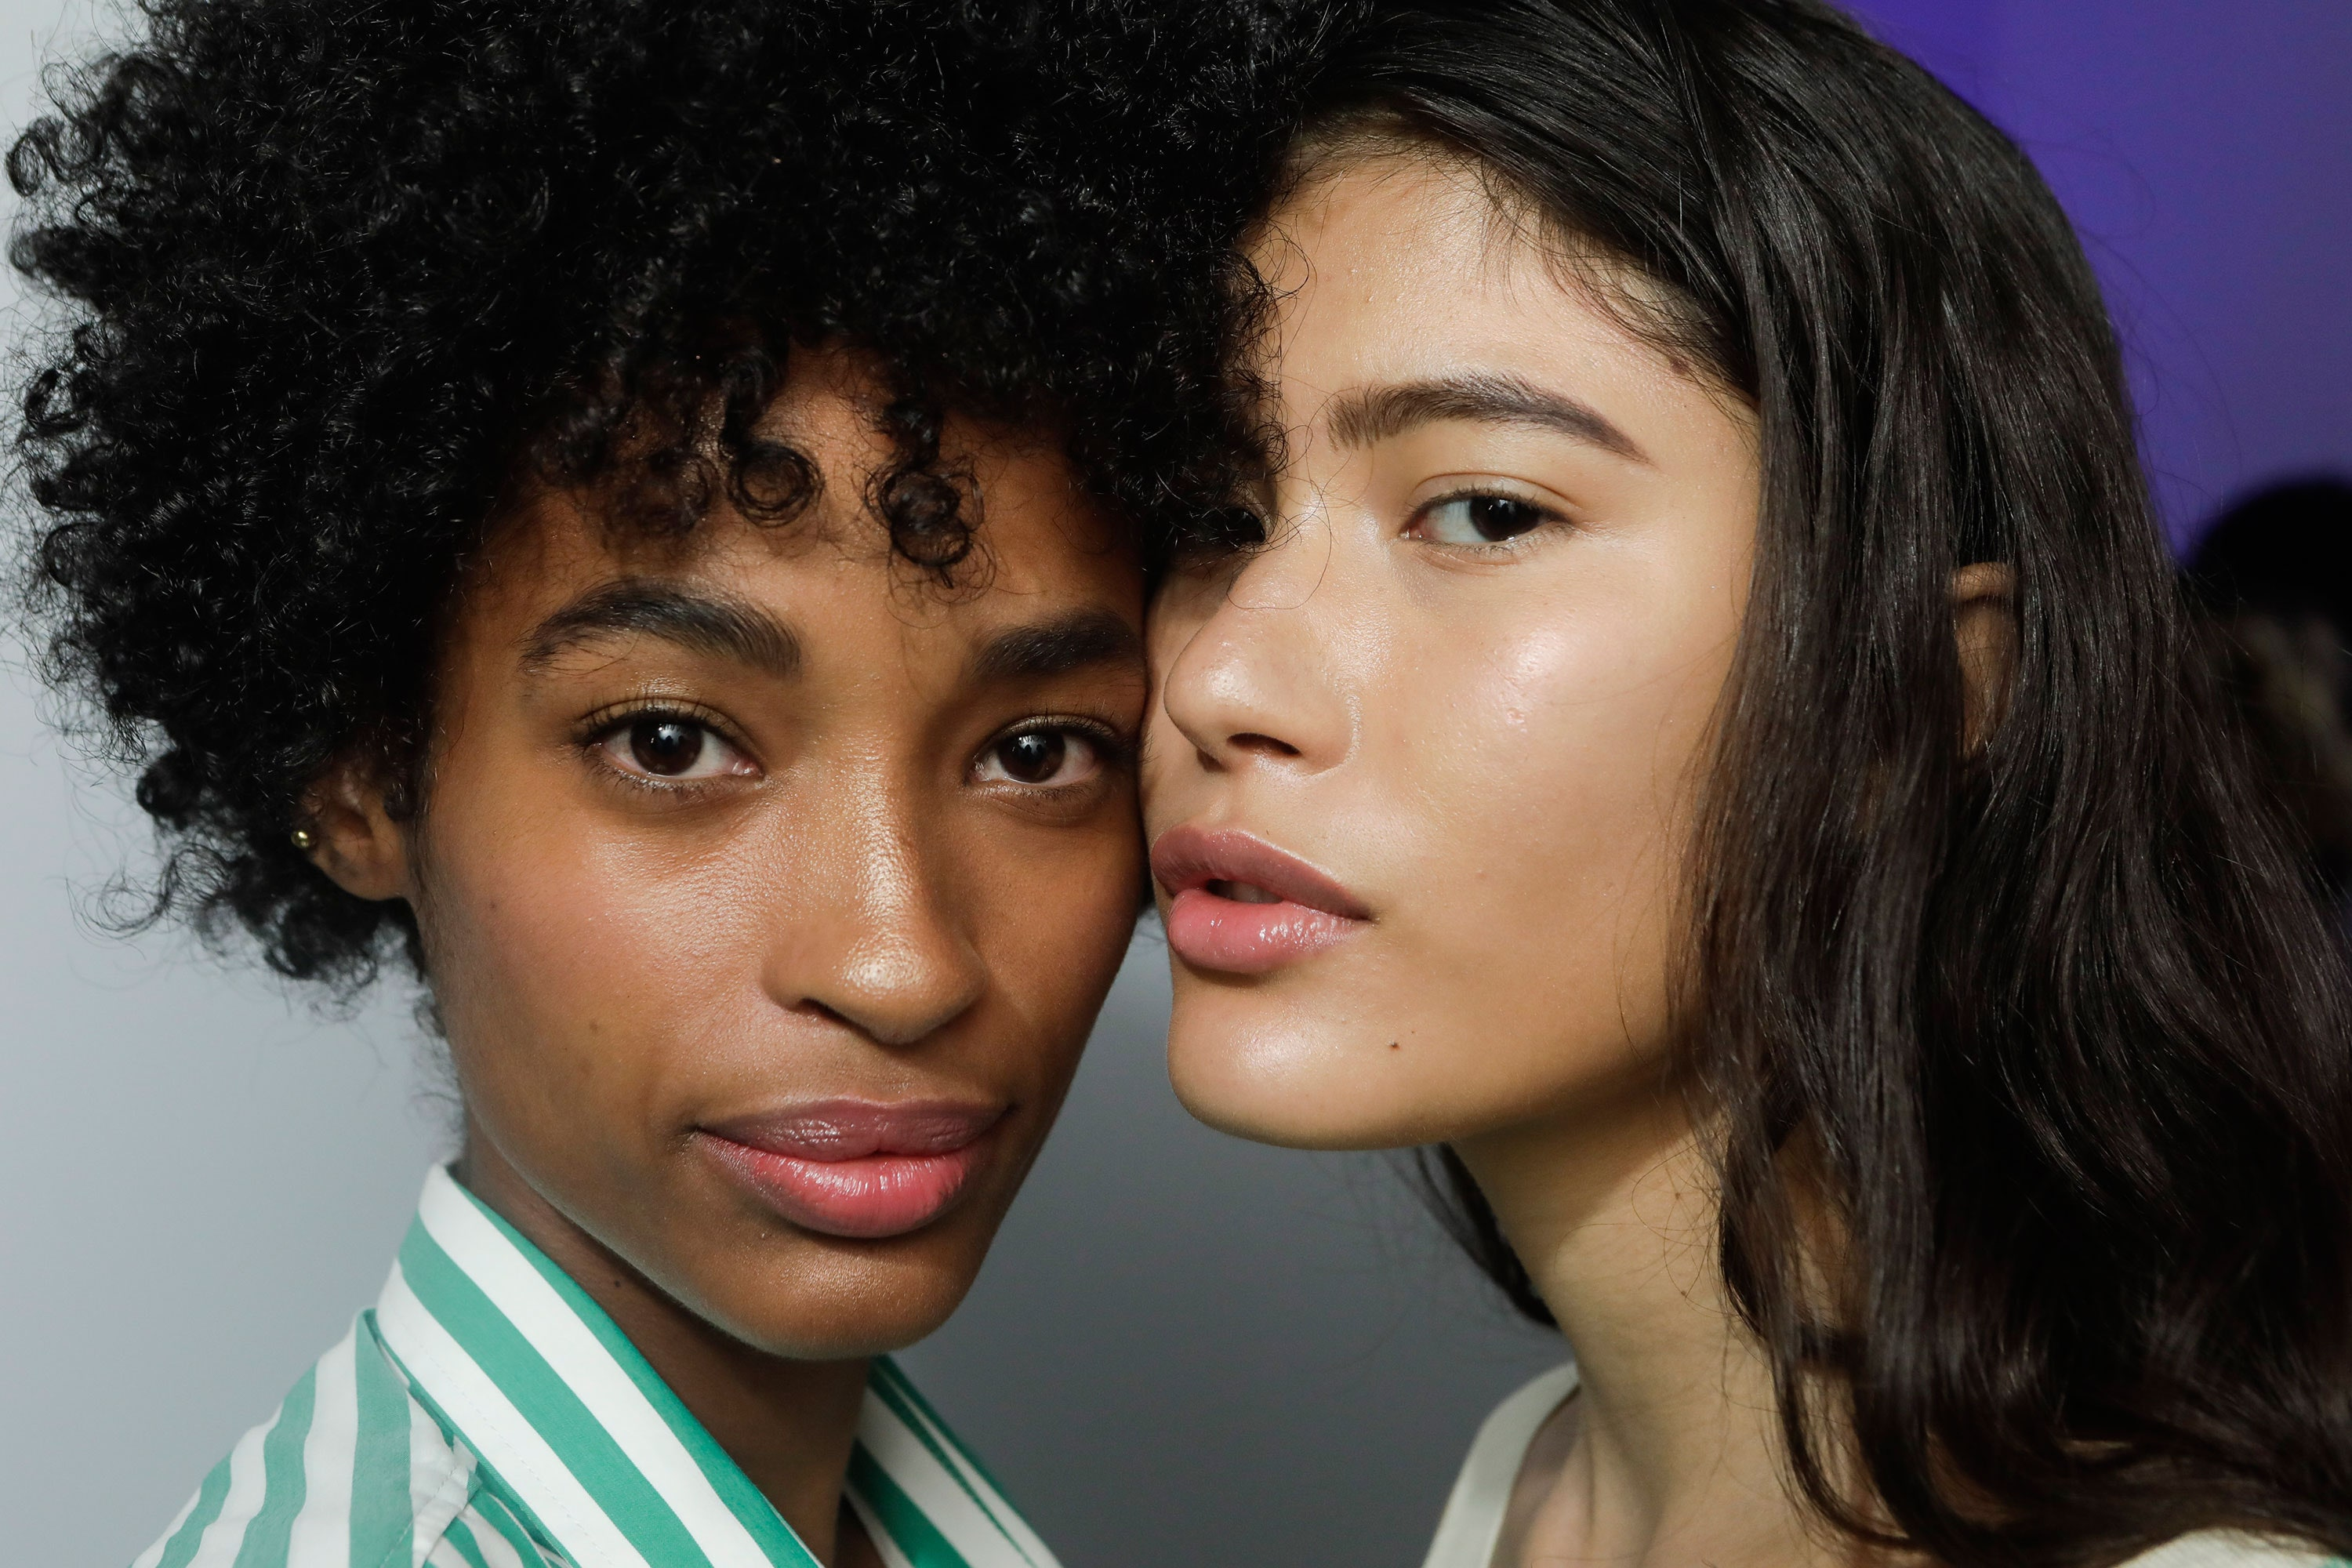bare: (439, 802, 1098, 1348), (1146, 583, 1674, 1135)
